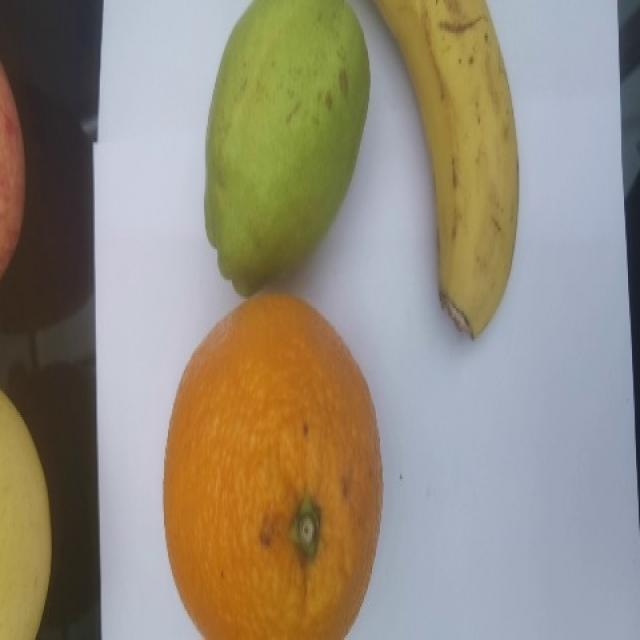Apple: (0, 60, 26, 281)
Orange: (162, 291, 383, 639)
